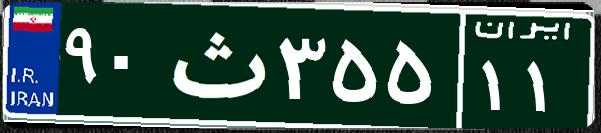0: (110, 28, 158, 105)
1: (475, 38, 525, 113), (525, 38, 570, 115)
3: (273, 28, 330, 110)
5: (385, 28, 445, 110), (330, 28, 385, 110)
9: (57, 26, 110, 107)
ث: (158, 15, 273, 115)
